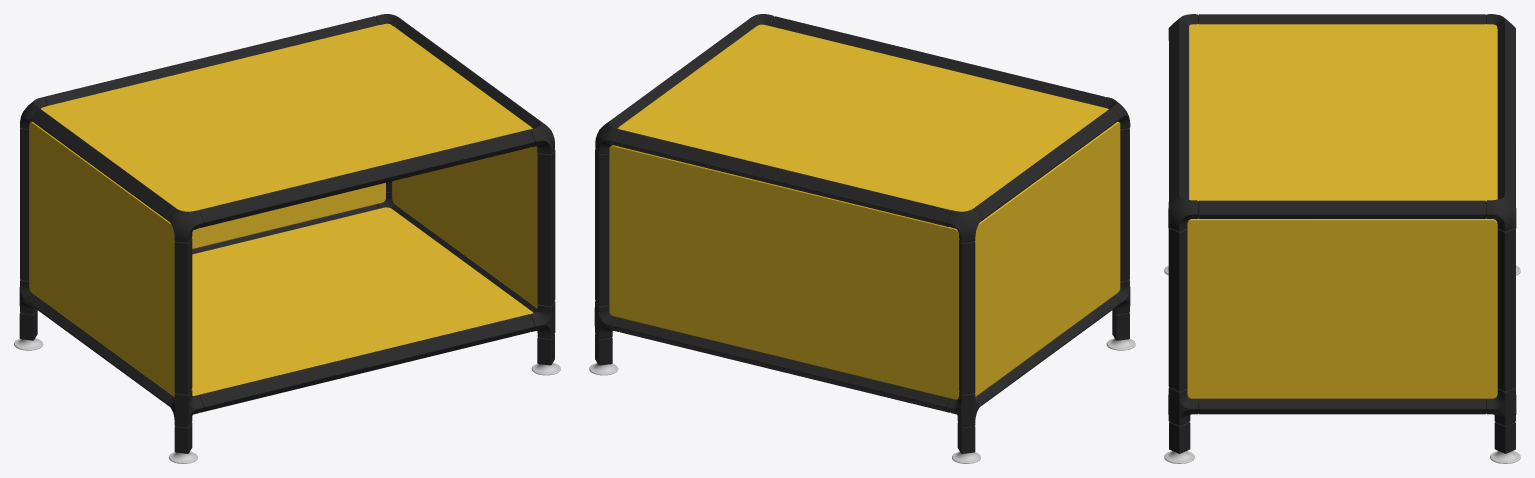
3 renders of one model, left to right at view 1: azimuth 30°, elevation 25°; view 2: azimuth 150°, elevation 25°; view 3: azimuth 270°, elevation 25°, orthographic. The views are drawn at different scales.
Parts seen in each view (by area): view 1: 523x374x229; view 2: 523x374x229; view 3: 523x374x229.
Part boxes in pixels (<box>): 523x374x229: <box>14,14,560,463</box>; 523x374x229: <box>589,14,1135,463</box>; 523x374x229: <box>1164,14,1520,463</box>.
Size of the model in its own units: 0.6129 by 0.3684 by 0.4632.
